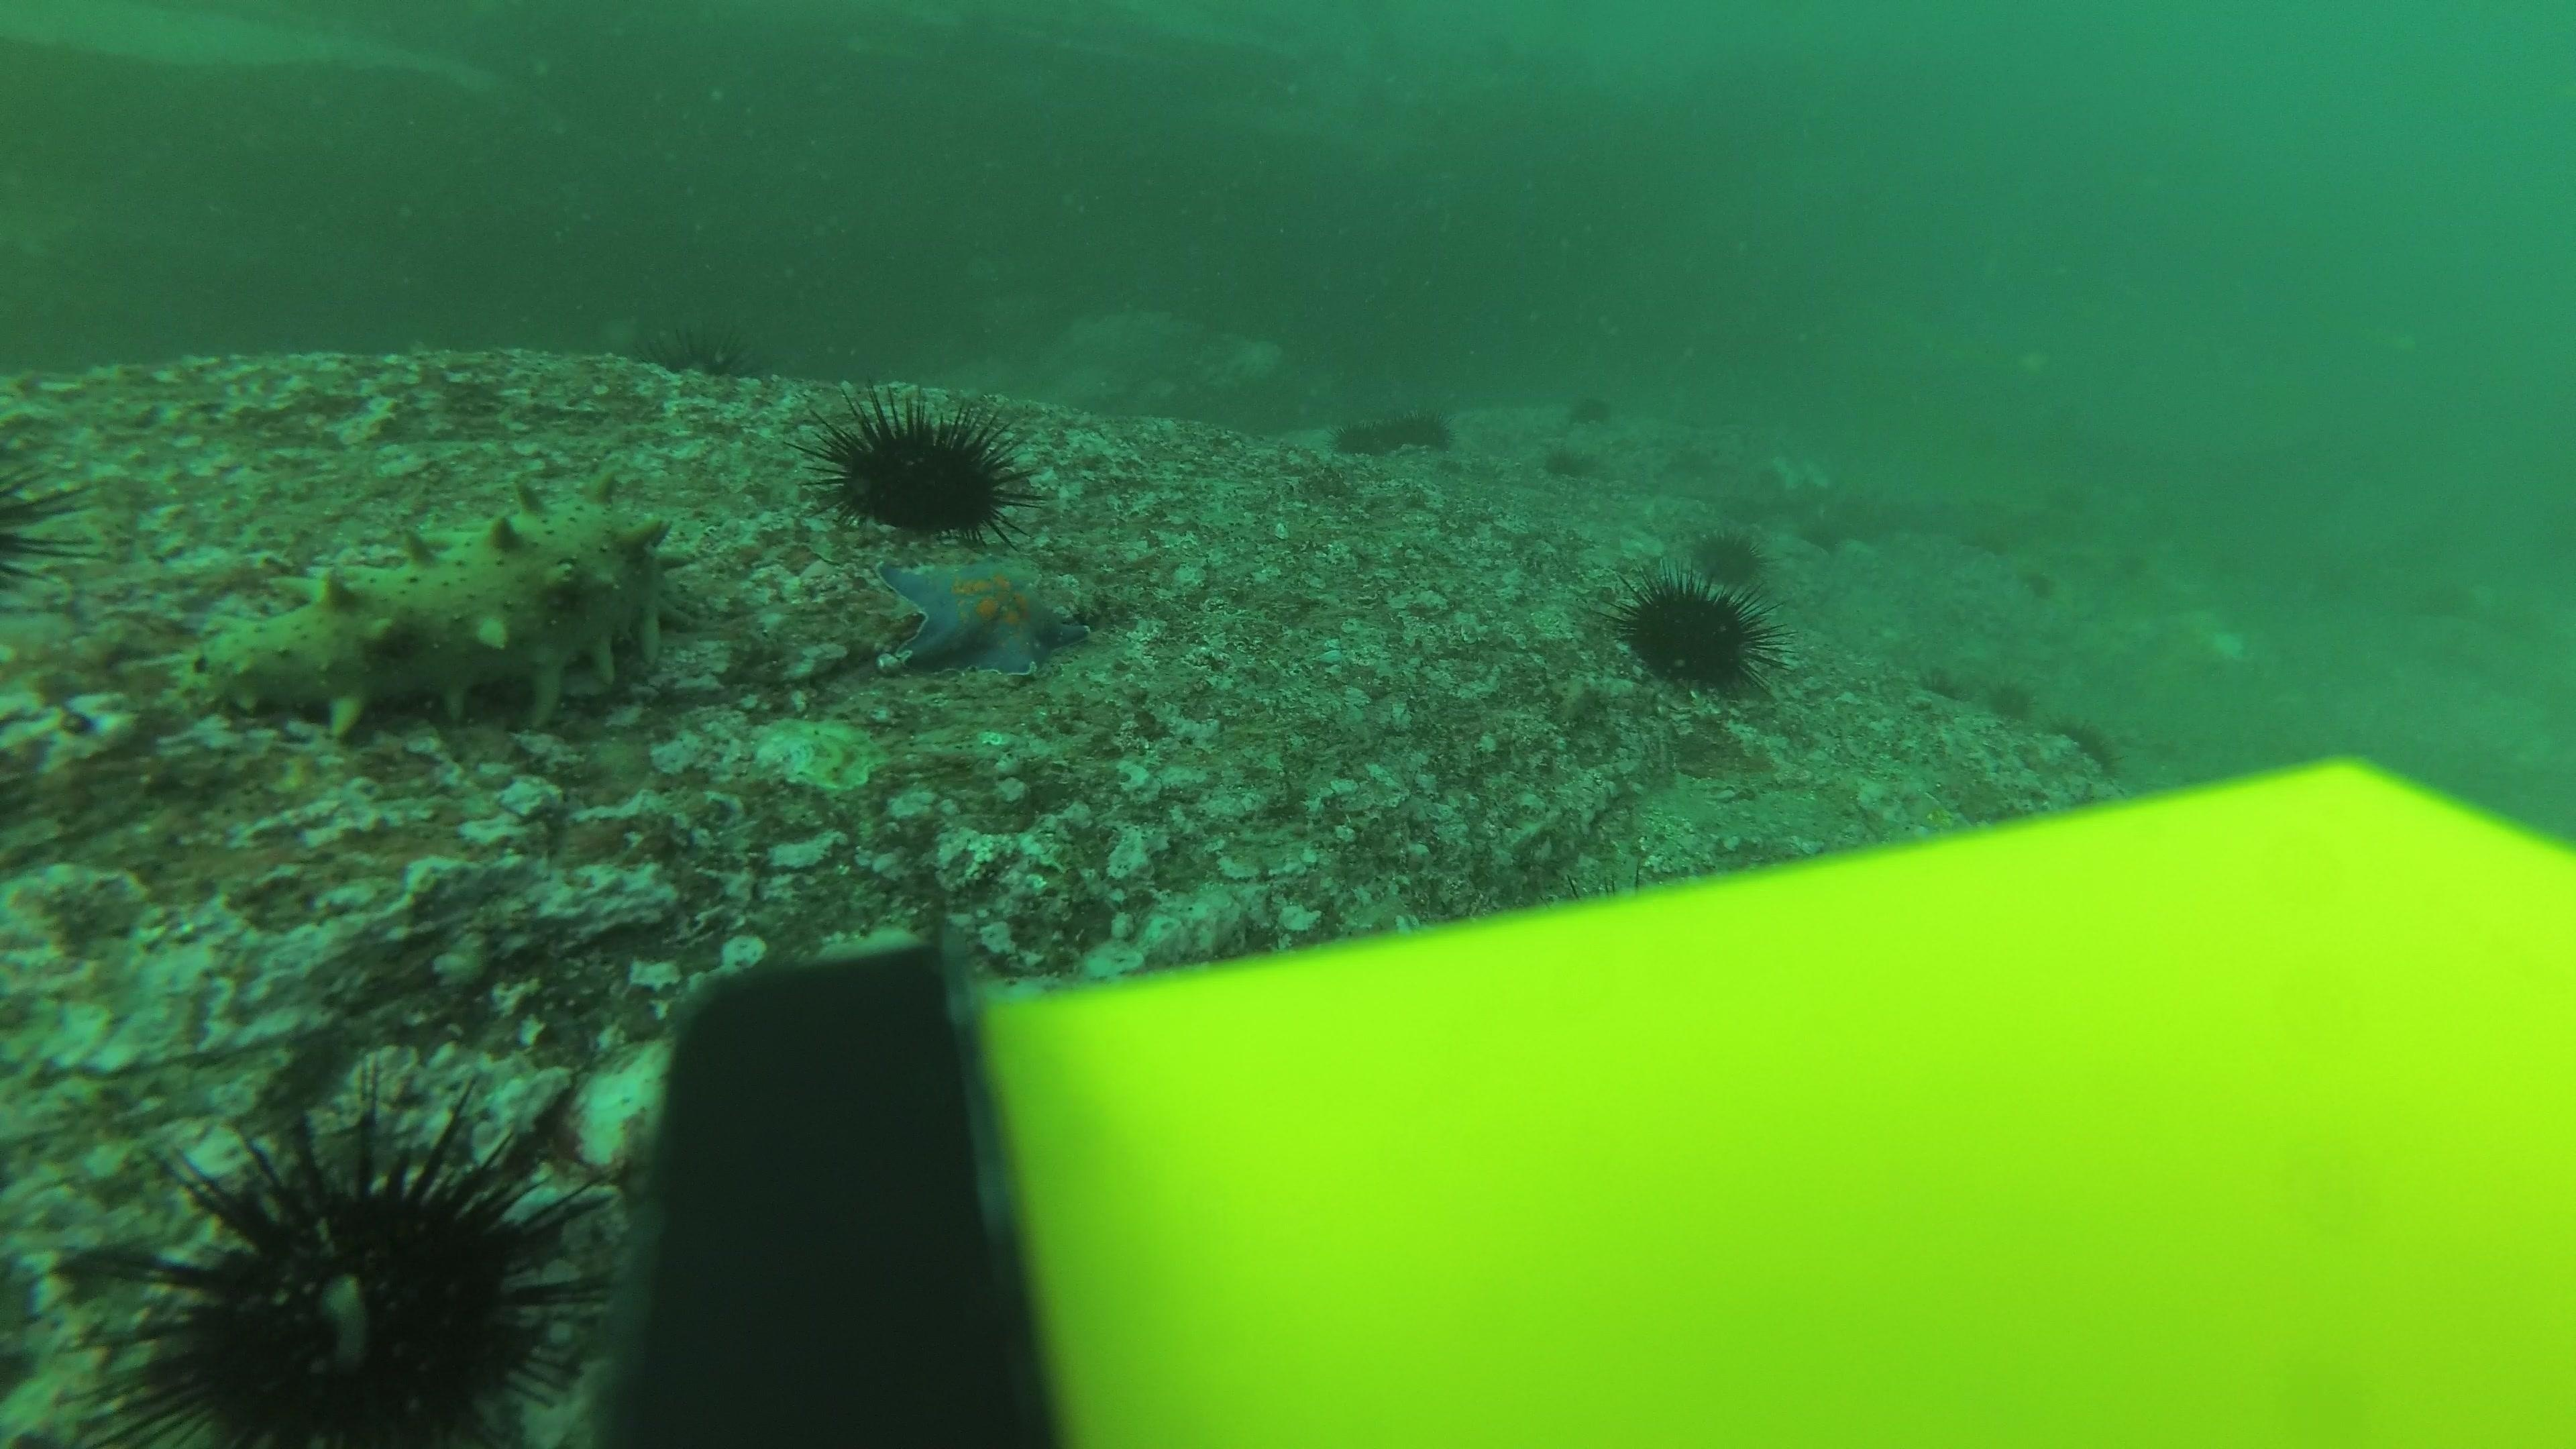echinus: (106, 1093, 614, 1440), (810, 389, 1028, 540), (1617, 571, 1778, 695), (2038, 713, 2121, 793), (655, 320, 745, 380), (1691, 524, 1767, 586), (1902, 667, 1971, 713), (1541, 435, 1605, 483), (1983, 674, 2038, 725), (1334, 418, 1396, 460), (1368, 403, 1431, 444), (1403, 410, 1465, 451), (1560, 391, 1615, 430), (2019, 561, 2065, 603), (2102, 543, 2148, 586)
holothurian: (193, 497, 690, 741)
starfish: (872, 545, 1097, 685)
